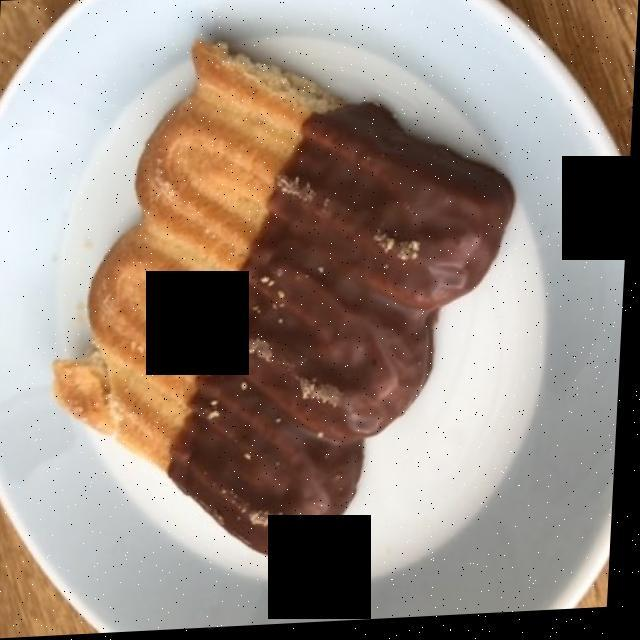cookies: (48, 48, 474, 567)
